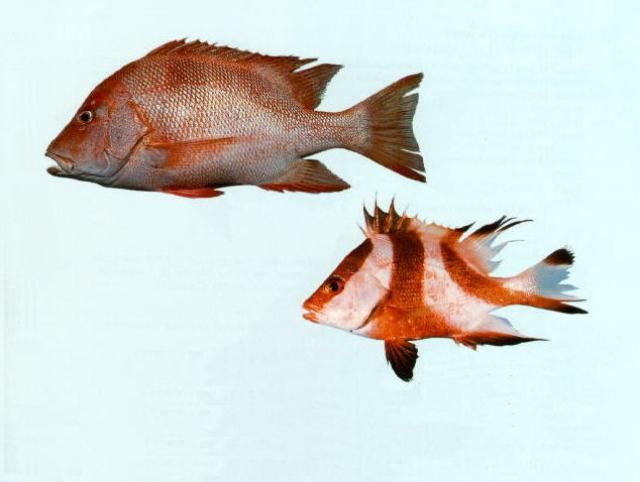Mulut: (29, 123, 73, 193), (292, 293, 332, 347)
Sirip Anal: (263, 147, 365, 215), (457, 306, 561, 358)
Sirip Dada: (142, 125, 264, 180), (378, 288, 470, 332)
Sirip Ekor: (352, 62, 446, 191), (514, 230, 596, 332)
Sirip Perut: (379, 330, 429, 400), (156, 180, 238, 208)
Sirip Punggung: (140, 30, 350, 118), (352, 185, 532, 275)
